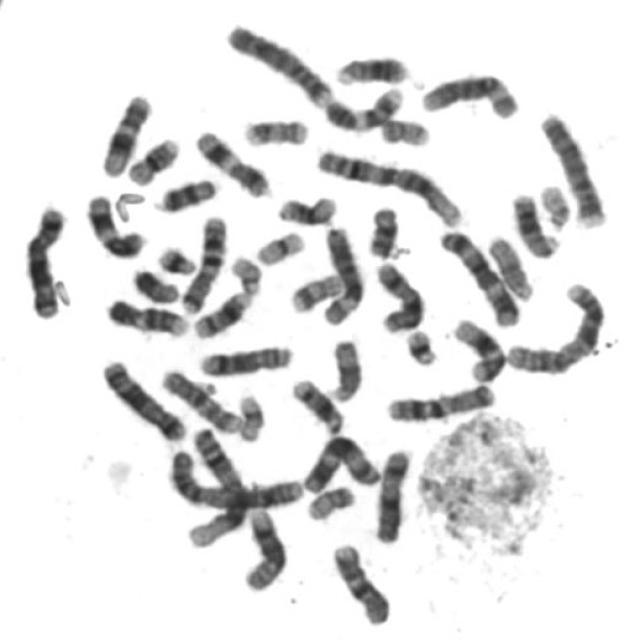A1: (311, 141, 467, 229), (179, 422, 251, 549)
A2: (502, 277, 610, 375), (164, 443, 308, 512)
A3: (435, 223, 524, 328), (298, 428, 385, 495)
B4: (221, 16, 336, 109), (535, 106, 612, 230)
B5: (96, 354, 190, 444), (20, 199, 70, 320)
C10: (156, 362, 246, 435), (326, 536, 396, 628)
C11: (189, 123, 276, 199), (82, 187, 150, 260)
C12: (96, 88, 156, 178), (449, 312, 509, 384)
C6: (416, 66, 524, 121), (316, 220, 368, 328)
C7: (177, 209, 232, 315), (382, 376, 499, 424)
C8: (240, 502, 290, 592), (194, 338, 298, 378)
C9: (320, 79, 408, 133), (101, 291, 193, 339)
D13: (508, 186, 564, 259), (331, 48, 414, 87)
D14: (286, 372, 348, 436), (190, 286, 256, 340)
D15: (483, 229, 539, 302), (324, 332, 367, 404)
E16: (122, 131, 183, 187), (272, 189, 341, 228)
E17: (287, 267, 346, 314), (238, 112, 312, 148)
E18: (154, 172, 222, 214), (363, 199, 403, 260)
F19: (252, 224, 309, 267), (232, 387, 270, 444)
F20: (302, 478, 360, 523), (376, 110, 435, 148)
G21: (400, 322, 442, 368), (154, 240, 202, 278)
G22: (535, 176, 576, 231), (226, 249, 266, 296)
X: (369, 442, 416, 546), (371, 256, 428, 334)
